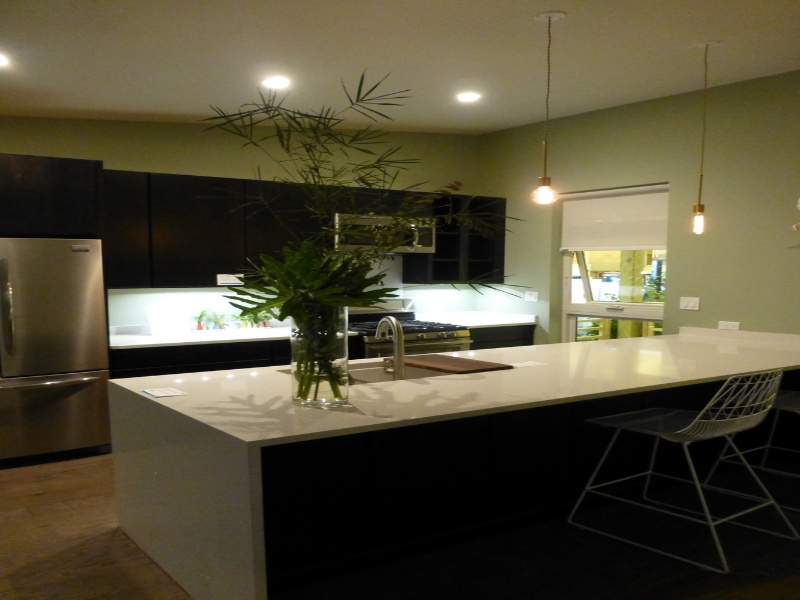chair: (580, 368, 796, 579)
refrigerator: (1, 233, 115, 457)
